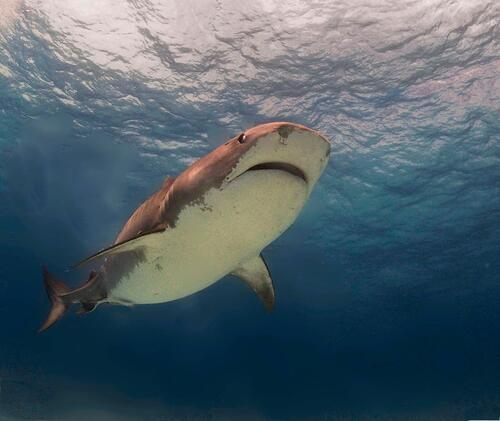shark: (34, 121, 332, 335)
